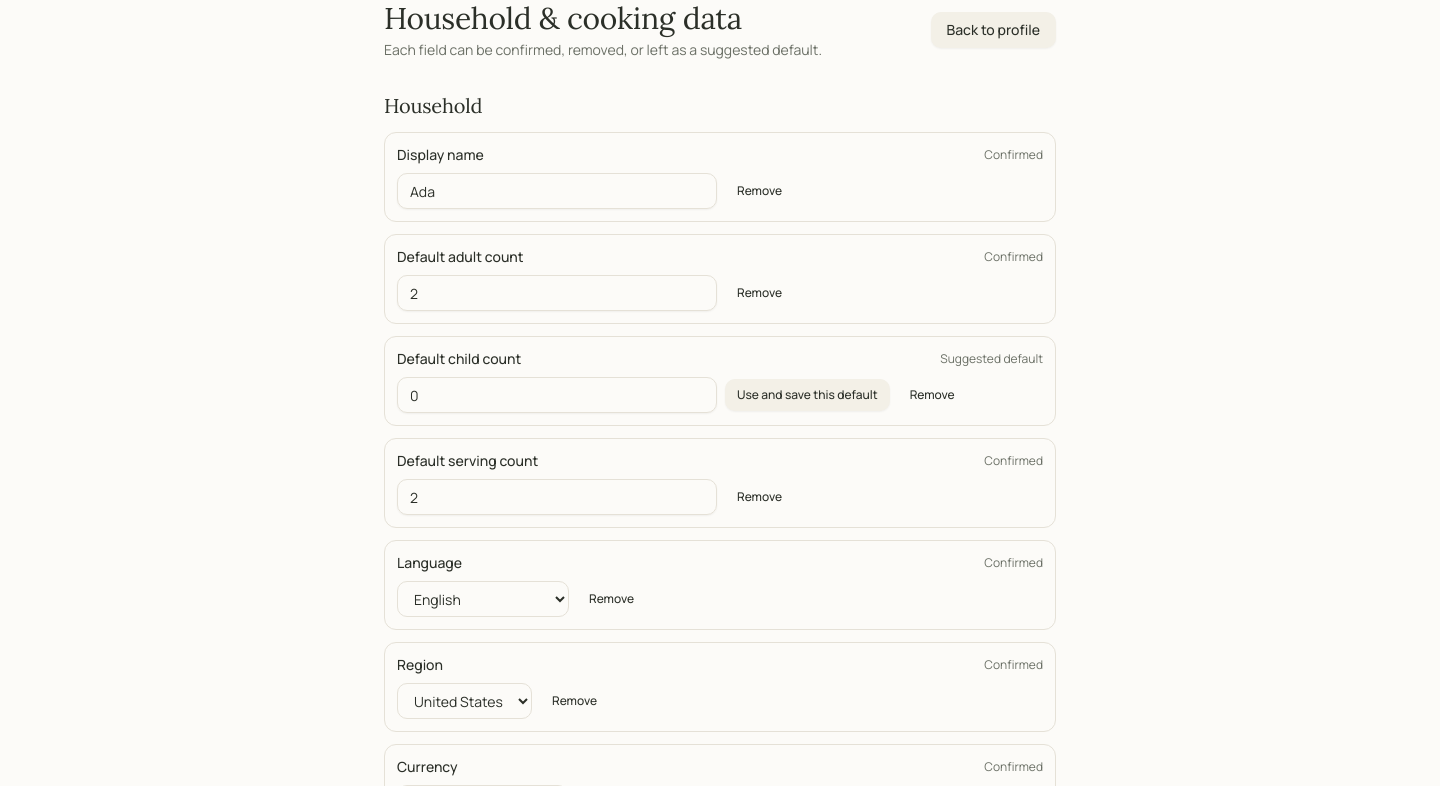
Test: ProfileDataPage › shows an accessible confirmation instead of navigating immediately when leaving with unsaved edits
This screenshot has width=1440, height=786.
Replace the text in the field with test id "profile-data-input-displayName" with "Changed" at (557, 191), box left=397, top=173, right=717, bottom=209
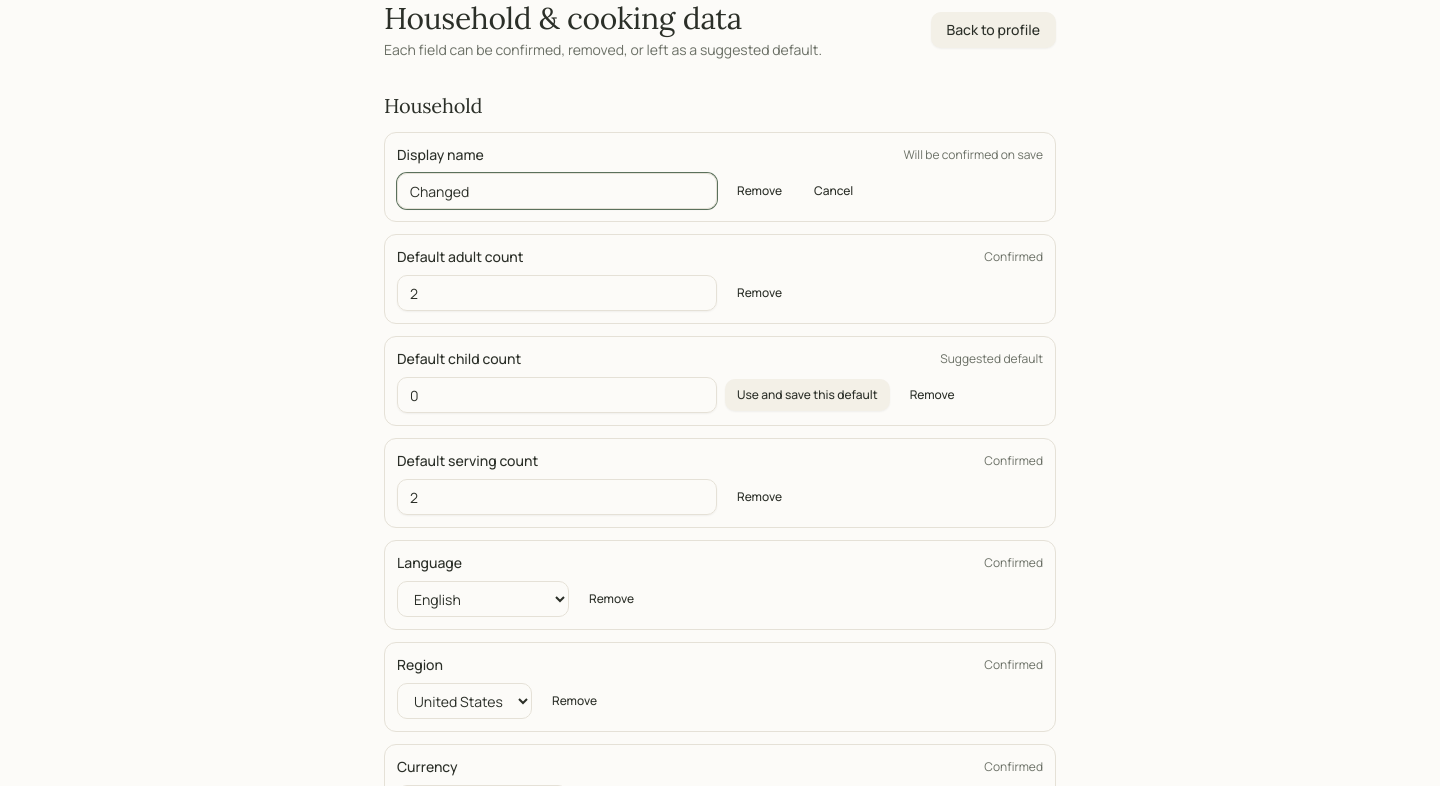
Click the link with test id "profile-data-back" at (993, 30), box left=931, top=12, right=1056, bottom=48
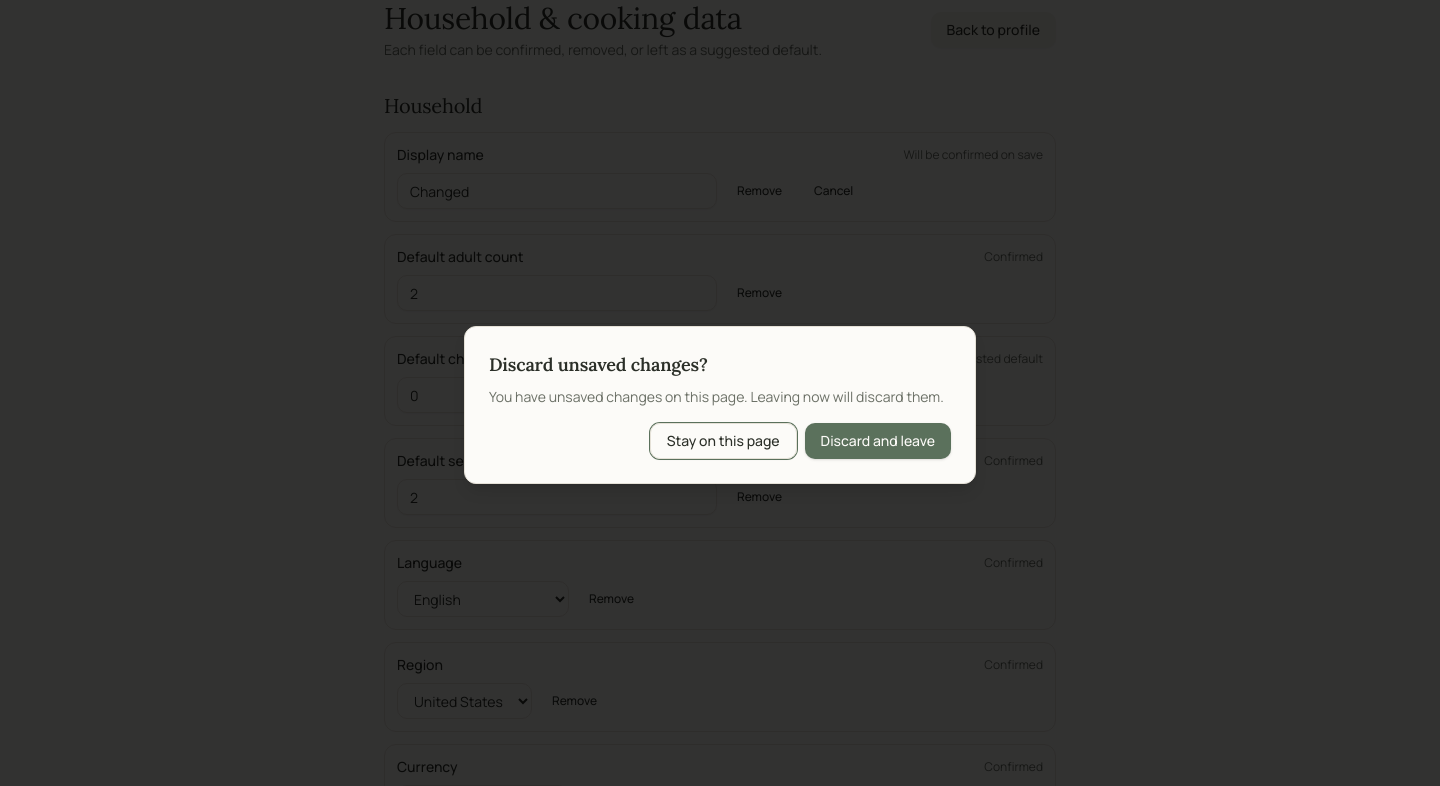
Result: the dialog with test id "profile-unsaved-dialog" is shown at left=464, top=326, right=976, bottom=484
Click the button with test id "profile-unsaved-stay" at (723, 441), box left=650, top=423, right=797, bottom=459
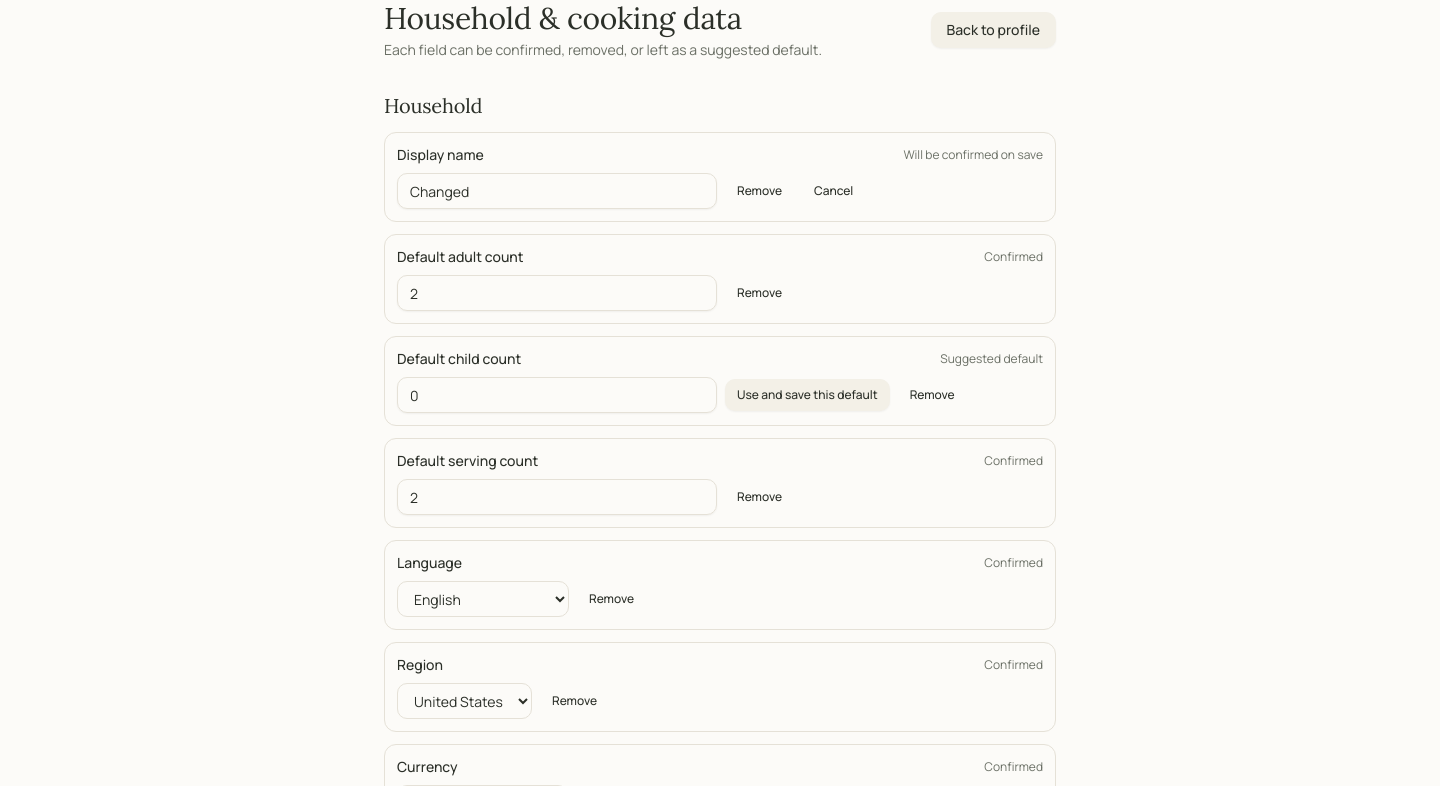
Result: the dialog with test id "profile-unsaved-dialog" is gone
